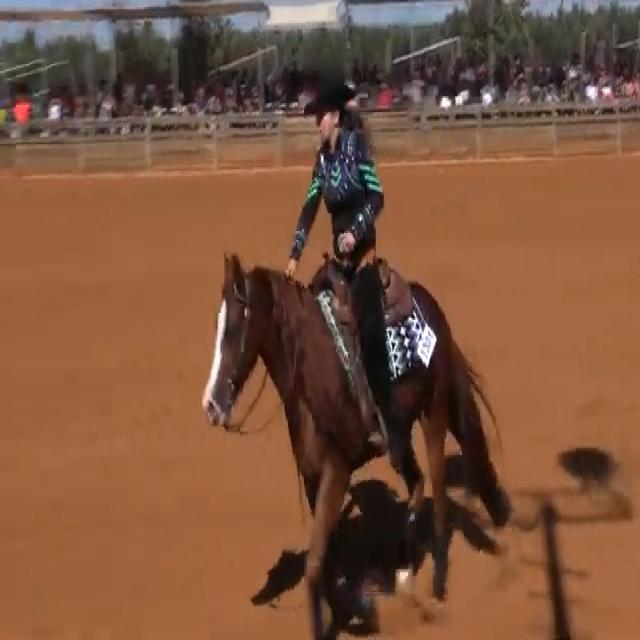horse: (200, 247, 513, 633)
